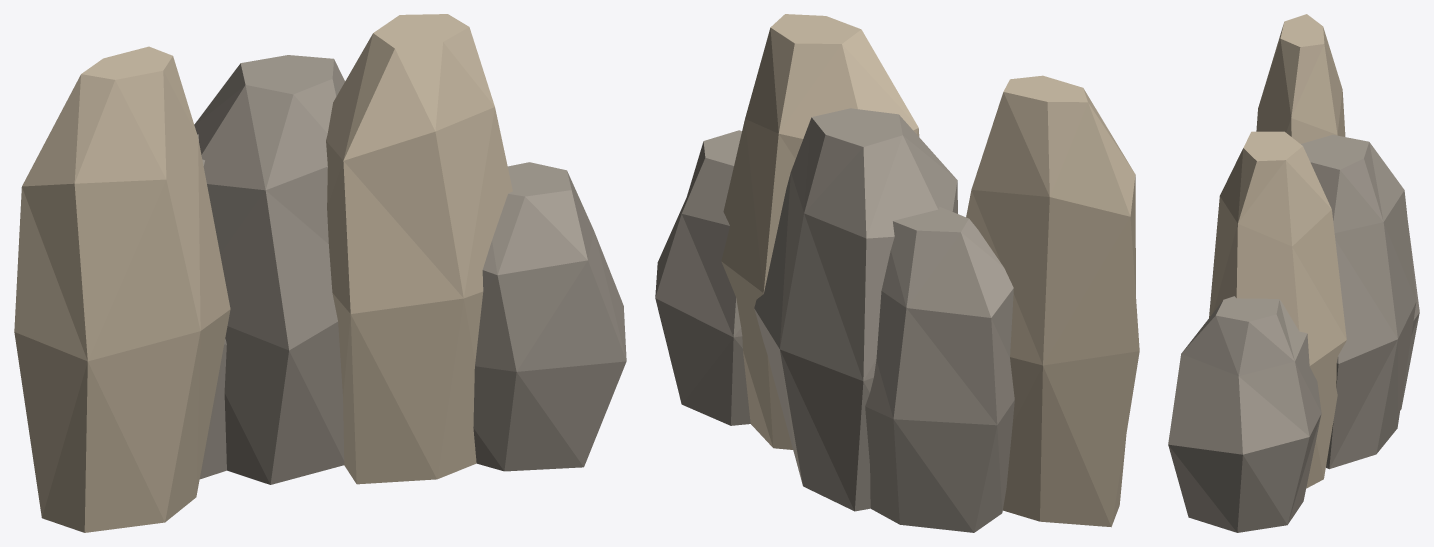
The model's file is cliff_rock_a.fbx.
The picture shows the model from 3 angles, left to right: view 1: azimuth 30°, elevation 25°; view 2: azimuth 150°, elevation 25°; view 3: azimuth 270°, elevation 25°; orthographic projection. The views are drawn at different scales.
Visible parts, largest first — view 1: cliff_rock_a; view 2: cliff_rock_a; view 3: cliff_rock_a.
Boxes of the visible parts, x1,y1,x2,y2 form: cliff_rock_a: [14, 14, 626, 532]; cliff_rock_a: [655, 14, 1139, 532]; cliff_rock_a: [1168, 14, 1419, 532].
Size of the model in its own units: 12 by 9 by 6.
